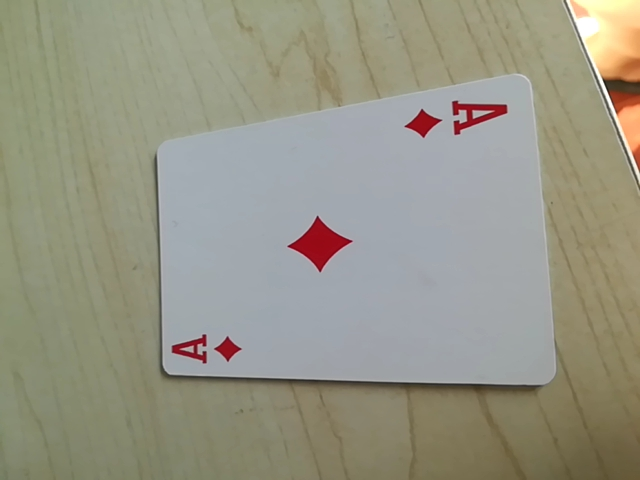fk a: (406, 95, 510, 145), (166, 325, 246, 372)
